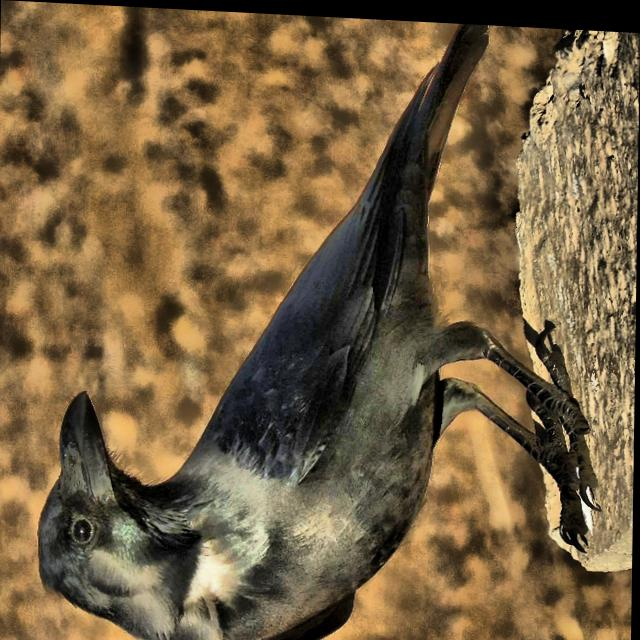crow: (21, 5, 615, 640)
